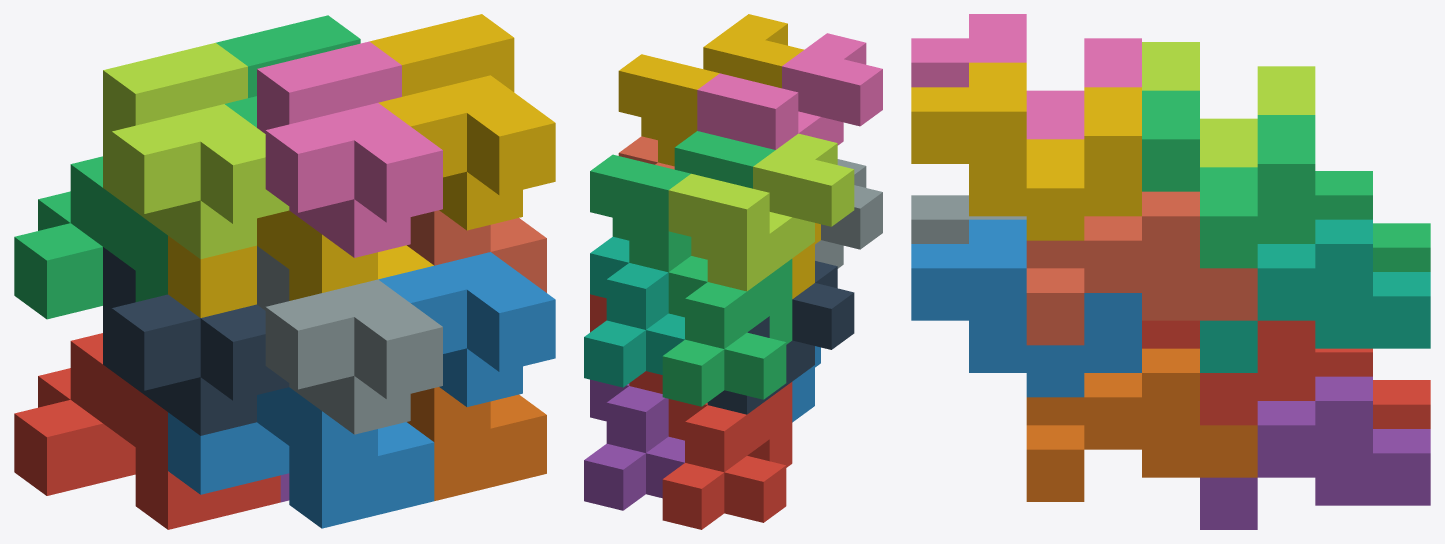
Rendered from tiling.obj.
The picture shows the model from 3 angles, left to right: view 1: azimuth 30°, elevation 25°; view 2: azimuth 150°, elevation 25°; view 3: azimuth 270°, elevation 25°; orthographic projection. The views are drawn at different scales.
Parts seen in each view (by area): view 1: copy_2_domain_4, copy_2_domain_3, copy_2_domain_8, copy_1_domain_2, copy_1_domain_1, copy_2_domain_2, copy_2_domain_1, copy_2_domain_6, copy_1_domain_3, copy_1_domain_4, copy_1_domain_6, copy_1_domain_8 (+1 smaller); view 2: copy_2_domain_3, copy_1_domain_3, copy_1_domain_1, copy_2_domain_4, copy_2_domain_7, copy_2_domain_8, copy_1_domain_7, copy_1_domain_5, copy_2_domain_1, copy_2_domain_2, copy_1_domain_2, copy_1_domain_4 (+2 smaller); view 3: copy_2_domain_8, copy_1_domain_8, copy_1_domain_6, copy_2_domain_6, copy_1_domain_5, copy_1_domain_7, copy_2_domain_7, copy_2_domain_4, copy_2_domain_5, copy_2_domain_3, copy_1_domain_3, copy_1_domain_1 (+1 smaller).
Part boxes in pixels (left/top/right/bottom): copy_2_domain_4: left=257, top=41, right=442, bottom=257; copy_2_domain_3: left=103, top=43, right=289, bottom=259; copy_2_domain_8: left=369, top=14, right=555, bottom=230; copy_1_domain_2: left=168, top=387, right=434, bottom=528; copy_1_domain_1: left=14, top=333, right=280, bottom=529; copy_2_domain_2: left=257, top=246, right=442, bottom=434; copy_2_domain_1: left=103, top=247, right=289, bottom=435; copy_2_domain_6: left=378, top=252, right=555, bottom=406; copy_1_domain_3: left=14, top=156, right=167, bottom=319; copy_1_domain_4: left=168, top=210, right=433, bottom=317; copy_1_domain_6: left=407, top=387, right=546, bottom=500; copy_1_domain_8: left=407, top=210, right=546, bottom=292; copy_2_domain_3: left=668, top=133, right=854, bottom=291; copy_1_domain_3: left=662, top=256, right=792, bottom=406; copy_1_domain_1: left=662, top=382, right=792, bottom=529; copy_2_domain_4: left=697, top=33, right=882, bottom=149; copy_2_domain_7: left=590, top=131, right=775, bottom=272; copy_2_domain_8: left=618, top=14, right=803, bottom=166; copy_1_domain_7: left=584, top=237, right=684, bottom=387; copy_1_domain_5: left=584, top=379, right=684, bottom=510; copy_2_domain_1: left=707, top=261, right=854, bottom=414; copy_2_domain_2: left=815, top=159, right=882, bottom=268; copy_1_domain_2: left=792, top=346, right=820, bottom=422; copy_1_domain_4: left=792, top=223, right=820, bottom=298; copy_2_domain_8: left=911, top=62, right=1141, bottom=240; copy_1_domain_8: left=1026, top=191, right=1257, bottom=345; copy_1_domain_6: left=1026, top=348, right=1257, bottom=501; copy_2_domain_6: left=911, top=219, right=1141, bottom=397; copy_1_domain_5: left=1200, top=376, right=1430, bottom=529; copy_1_domain_7: left=1200, top=219, right=1430, bottom=372; copy_2_domain_7: left=1142, top=90, right=1315, bottom=268; copy_2_domain_4: left=911, top=14, right=1141, bottom=139; copy_2_domain_5: left=1142, top=320, right=1315, bottom=425; copy_2_domain_3: left=1142, top=42, right=1315, bottom=167; copy_1_domain_3: left=1315, top=171, right=1430, bottom=271; copy_1_domain_1: left=1315, top=348, right=1430, bottom=428.
Bounding box in the file's own units: 6 × 8 × 9.
